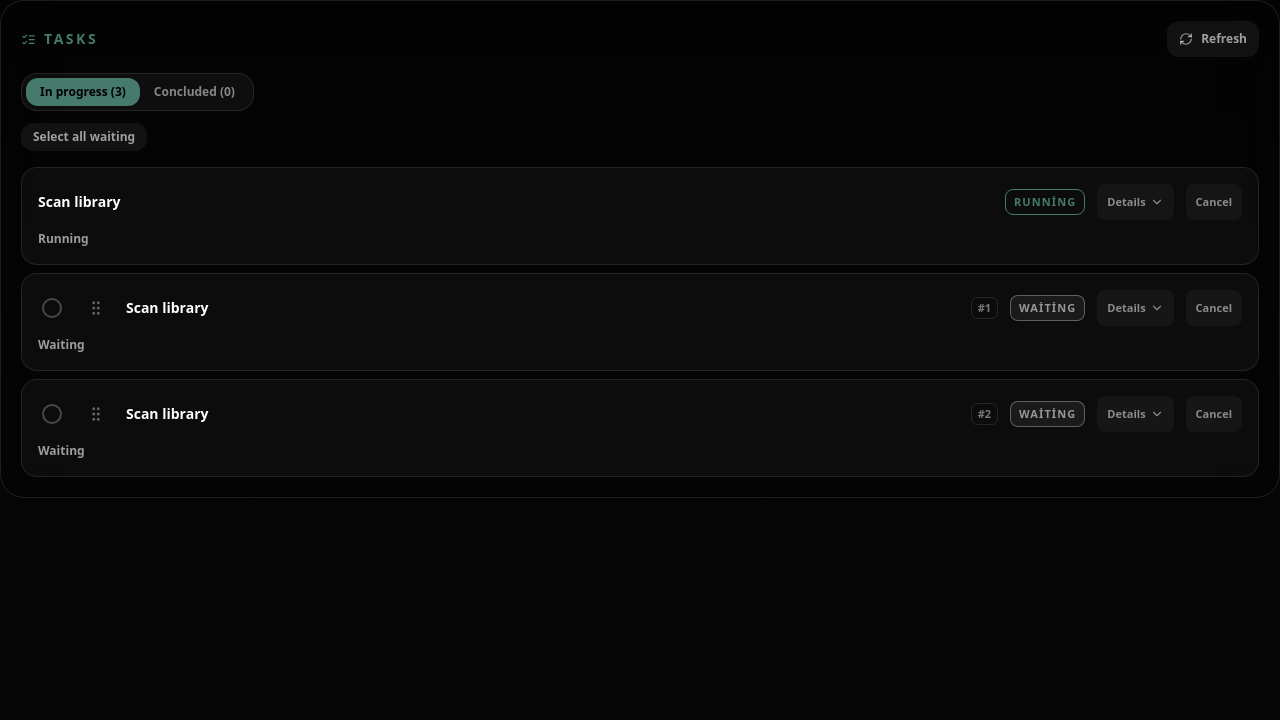
selecting several waiting tasks › selects every waiting row and then clears them
expect the number of list items is 3: met, box x1=21 y1=167 x2=1259 y2=265; x1=21 y1=273 x2=1259 y2=371; x1=21 y1=379 x2=1259 y2=477
What coordinates should you click on to do the following:
click the button "Select all waiting"
I would click on:
 (84, 137)
Its box is x1=21 y1=123 x2=147 y2=151.
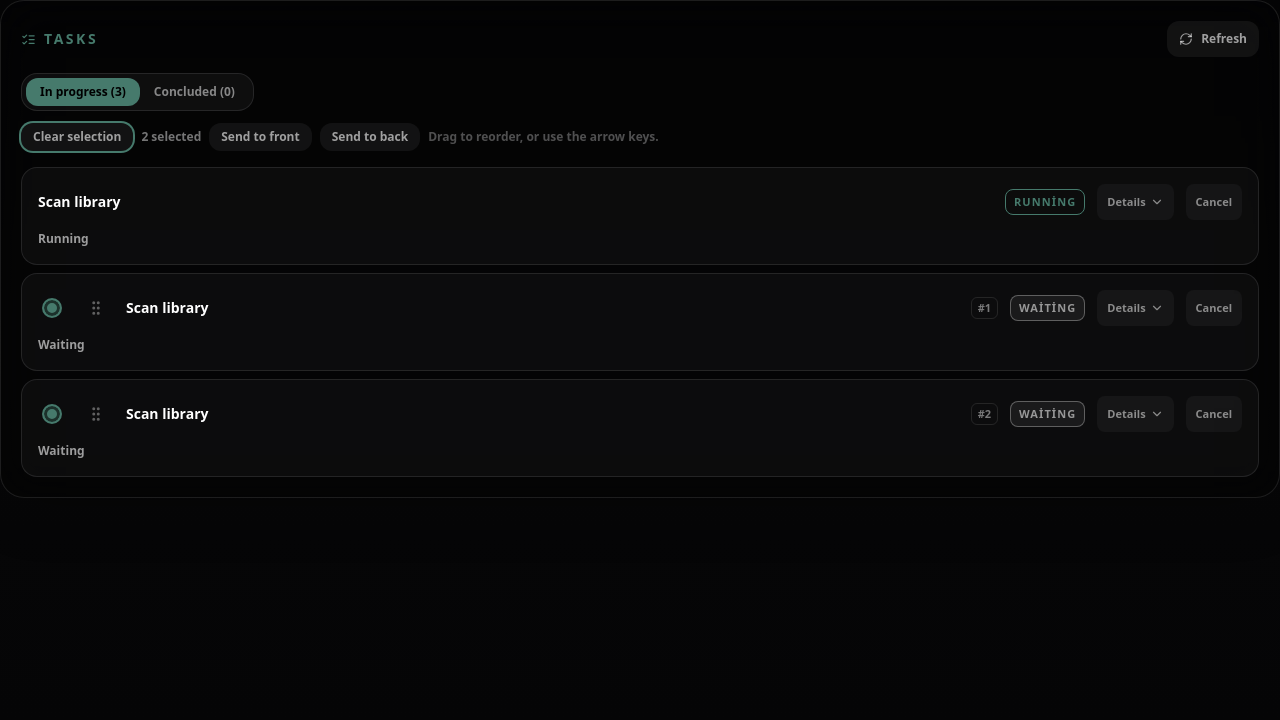
expect the text "2 selected" is shown: met, box x1=141 y1=129 x2=201 y2=145
What coordinates should you click on to do the following:
click the button "Clear selection"
I would click on:
 (77, 137)
Its box is x1=21 y1=123 x2=133 y2=151.
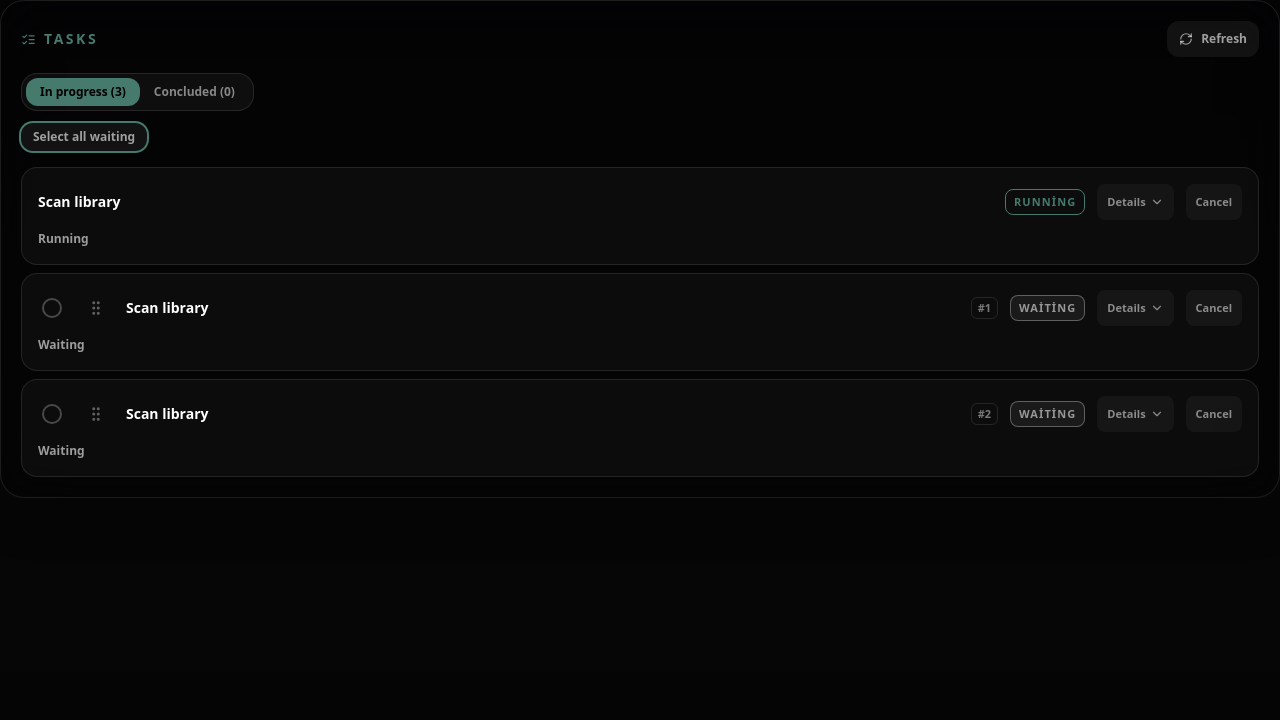
expect the text "selected" is gone: met
